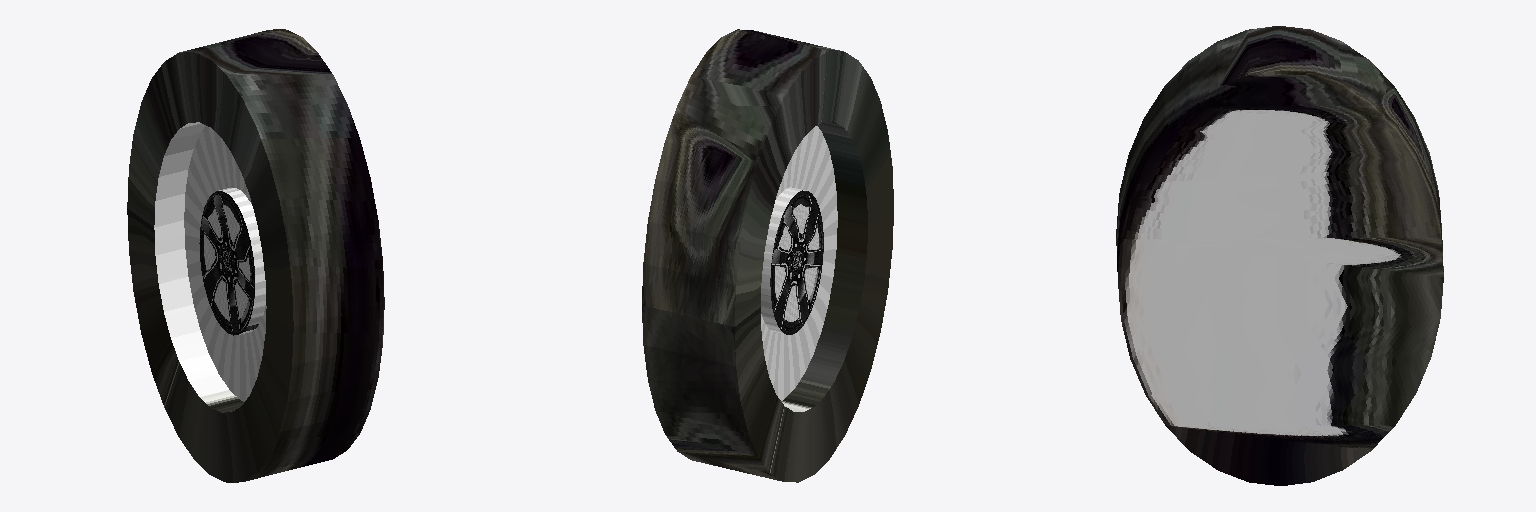
3 renders of one model, left to right at view 1: azimuth 30°, elevation 25°; view 2: azimuth 150°, elevation 25°; view 3: azimuth 270°, elevation 25°, orthographic.
Parts seen in each view (by area): view 1: Cylinder.010_Cylinder.008, Cylinder.011_Cylinder.013; view 2: Cylinder.010_Cylinder.008, Cylinder.011_Cylinder.013; view 3: Cylinder.010_Cylinder.008.
Boxes of the visible parts, box(x1,y1,x2,y2) form: Cylinder.010_Cylinder.008: box(127, 29, 384, 482); Cylinder.011_Cylinder.013: box(184, 126, 266, 401); Cylinder.010_Cylinder.008: box(642, 29, 893, 482); Cylinder.011_Cylinder.013: box(761, 126, 837, 400); Cylinder.010_Cylinder.008: box(1116, 26, 1443, 485).
Bounding box in the file's own units: 0.4035 × 1.68 × 1.2.
Materials: 2 (2 with a texture image).